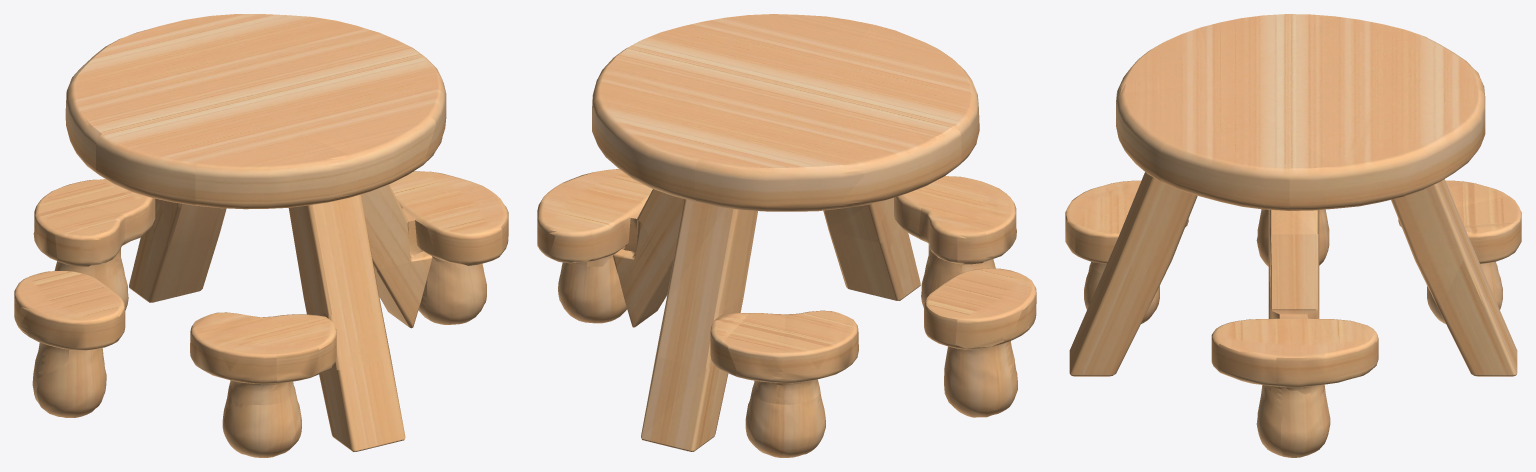
File: s1_gen_party_table.glb
3 renders of one model, left to right at view 1: azimuth 30°, elevation 25°; view 2: azimuth 150°, elevation 25°; view 3: azimuth 270°, elevation 25°, orthographic. The views are drawn at different scales.
Bounding box in the file's own units: 1.91 × 1.06 × 1.62.
Materials: 1 (1 with a texture image).
